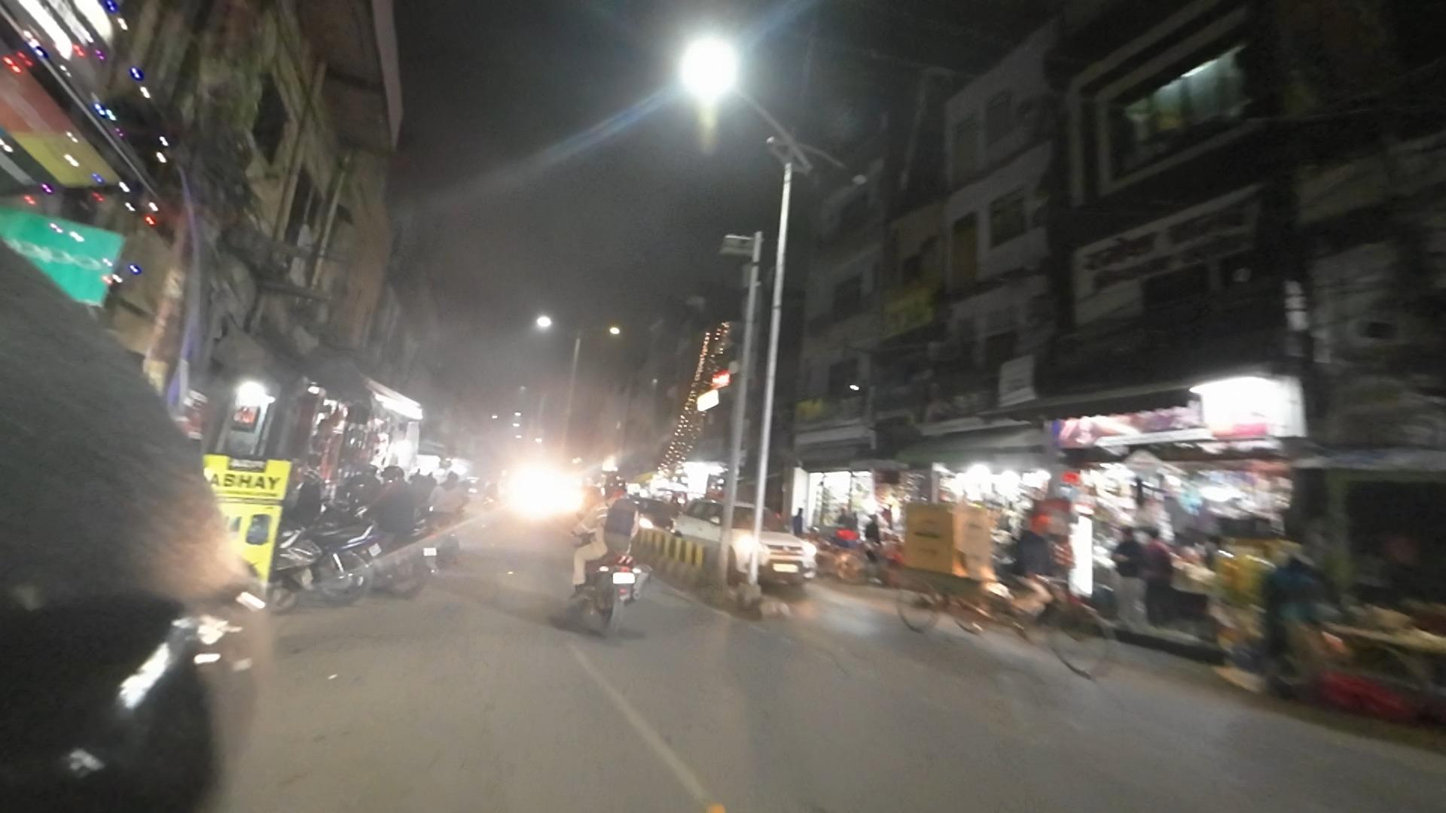streetlight: (808, 142, 874, 191)
